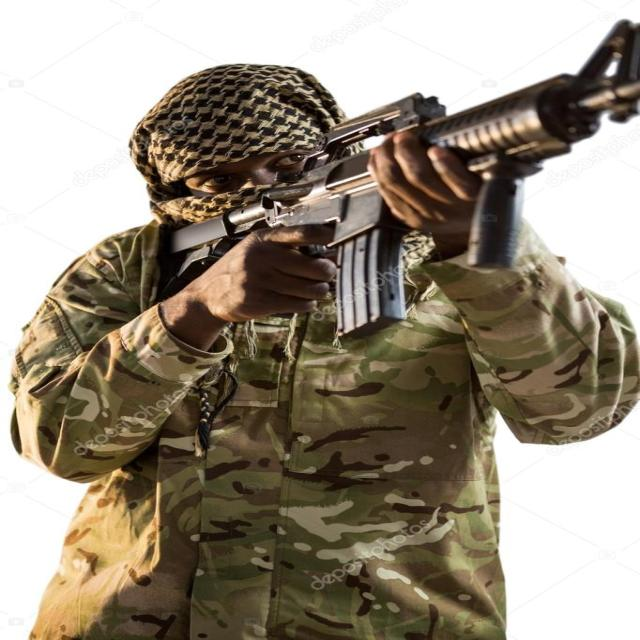soldier: (32, 25, 632, 594)
